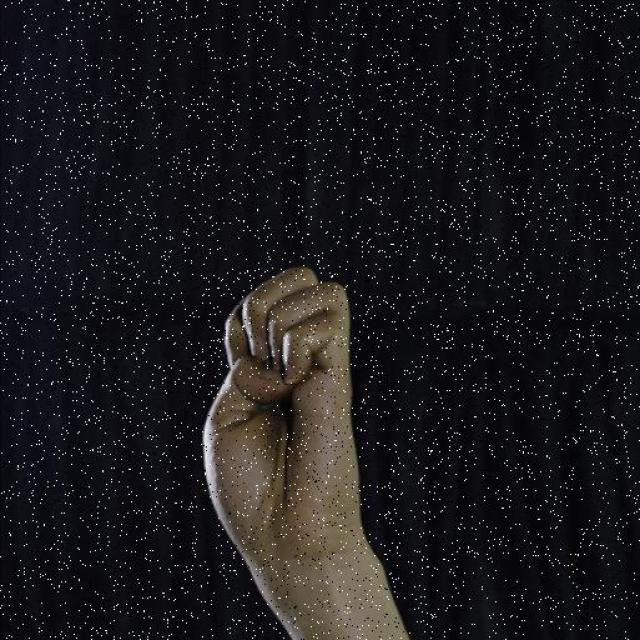E: (197, 260, 369, 566)
